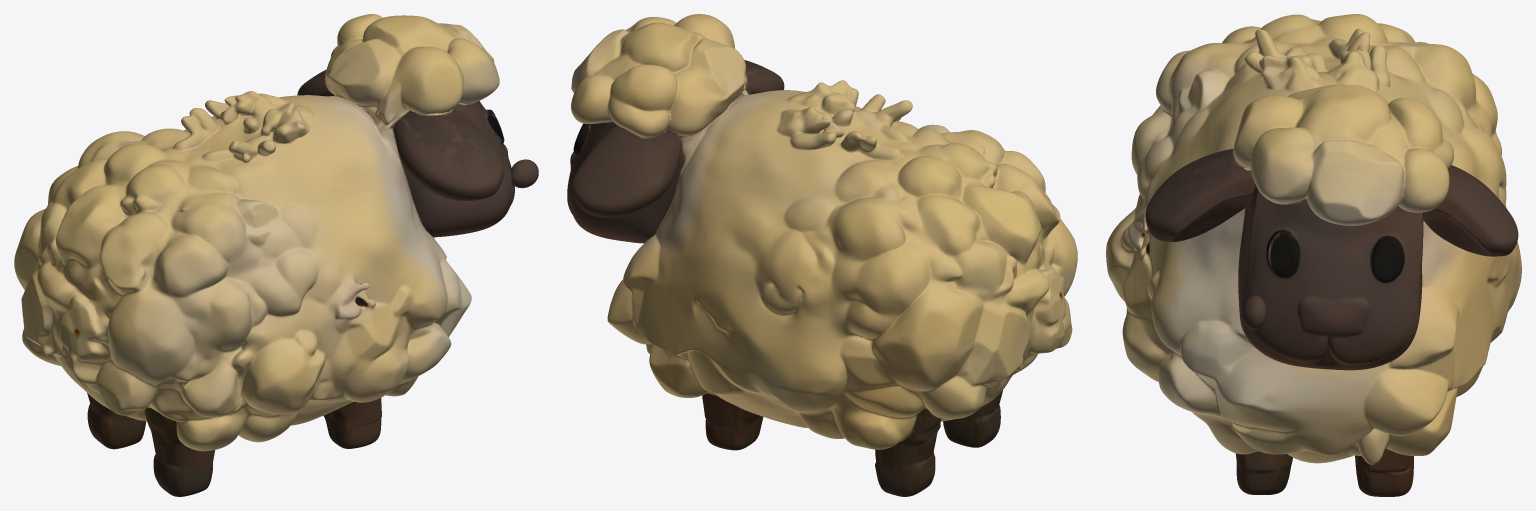
Rendered from sheep.glb.
The picture shows the model from 3 angles, left to right: view 1: azimuth 30°, elevation 25°; view 2: azimuth 150°, elevation 25°; view 3: azimuth 270°, elevation 25°; orthographic projection. The views are drawn at different scales.
Visible parts, largest first — view 1: tripo_node_7100ef42-b43f-499f-ae5e-b95b45b20296; view 2: tripo_node_7100ef42-b43f-499f-ae5e-b95b45b20296; view 3: tripo_node_7100ef42-b43f-499f-ae5e-b95b45b20296.
Boxes of the visible parts, x1,y1,x2,y2 form: tripo_node_7100ef42-b43f-499f-ae5e-b95b45b20296: [14, 14, 538, 496]; tripo_node_7100ef42-b43f-499f-ae5e-b95b45b20296: [567, 14, 1077, 496]; tripo_node_7100ef42-b43f-499f-ae5e-b95b45b20296: [1106, 14, 1521, 496].
Size of the model in its own units: 1 by 0.7767 by 0.6582.
1 material, 1 textured.
